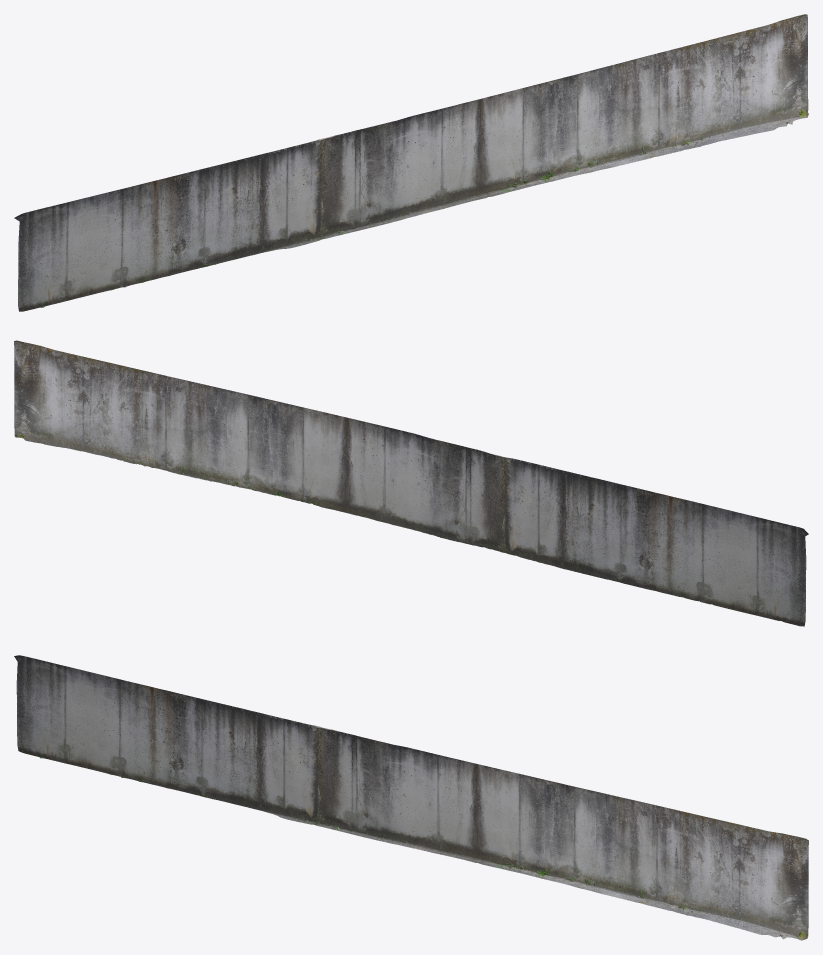
File: dirty_leaking_concrete_wall.glb
The picture shows the model from 3 angles, top to bottom: view 1: azimuth 30°, elevation 25°; view 2: azimuth 150°, elevation 25°; view 3: azimuth 330°, elevation 25°; orthographic projection.
Visible parts, largest first — view 1: btn_krnl; view 2: btn_krnl; view 3: btn_krnl.
Part boxes in pixels (x1,y1,x2,y2): btn_krnl: [14, 14, 808, 311]; btn_krnl: [14, 340, 808, 626]; btn_krnl: [14, 655, 808, 940].
Bounding box in the file's own units: 8.2 × 1.01 × 0.1393.
2 materials, 2 textured.
